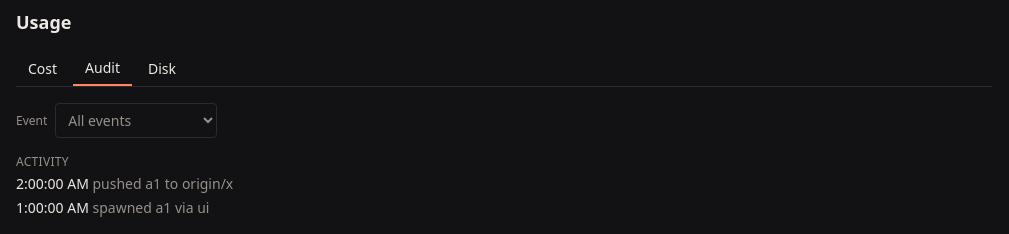
Test: Usage other tabs › filters the audit feed by event
This screenshot has width=1009, height=234.
Check: the text "1:00:00 AM spawned a1 via ui" is shown, box 16,198 -> 209,217
Check: the text "2:00:00 AM pushed a1 to origin/x" is shown, box 16,174 -> 233,193
Select "push" in the dropdown named "Event type" at point(136, 120), box 55,103 -> 217,138
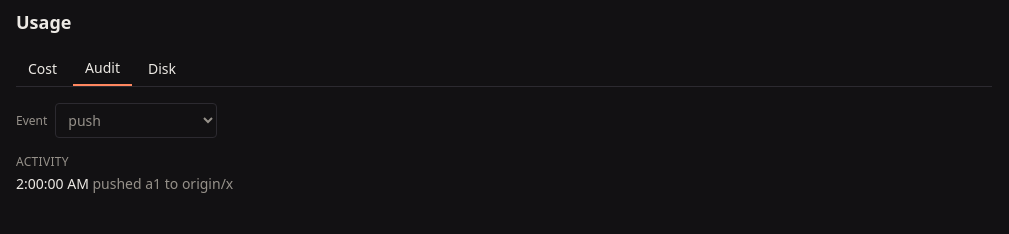
Check: the text "2:00:00 AM pushed a1 to origin/x" is shown, box 16,174 -> 233,193
Check: the text "spawned a1" is gone
